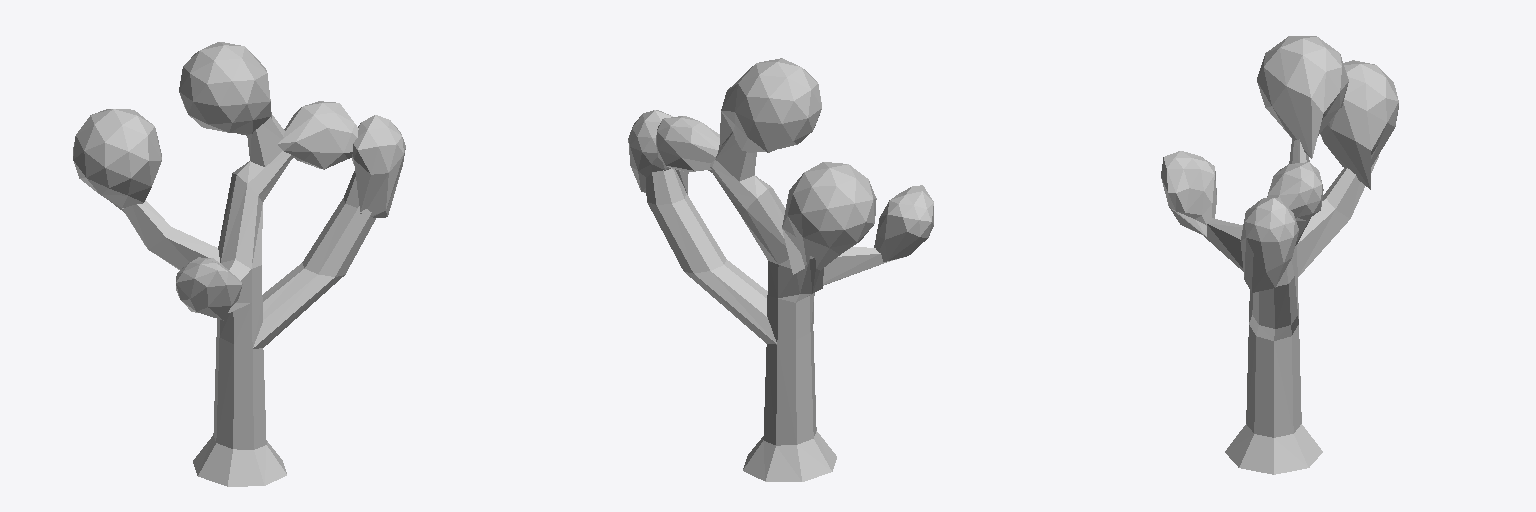
File: BigTree.obj
The picture shows the model from 3 angles: view 1: azimuth 30°, elevation 25°; view 2: azimuth 150°, elevation 25°; view 3: azimuth 270°, elevation 25°; orthographic projection.
Parts seen in each view (by area): view 1: Cylinder_Cylinder.001; view 2: Cylinder_Cylinder.001; view 3: Cylinder_Cylinder.001.
Part boxes in pixels (bbox=[...]): Cylinder_Cylinder.001: bbox=[73, 42, 405, 486]; Cylinder_Cylinder.001: bbox=[628, 58, 933, 481]; Cylinder_Cylinder.001: bbox=[1161, 36, 1398, 474].
Bounding box in the file's own units: 11.06 × 15.61 × 8.13.